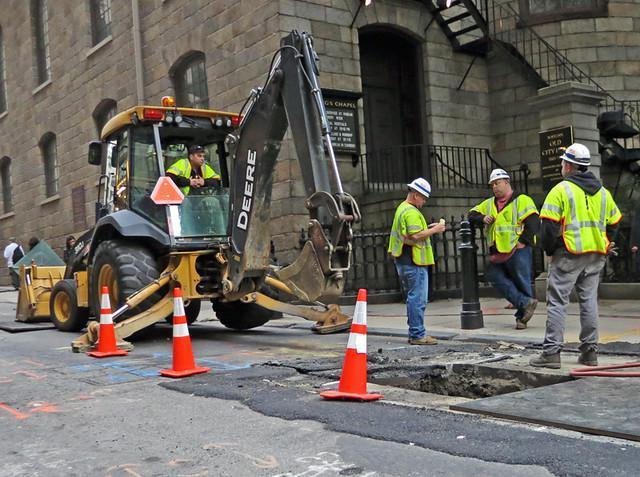Helmet: (560, 143, 592, 166), (407, 178, 431, 198), (488, 168, 511, 182)
Person: (530, 140, 621, 369), (468, 168, 540, 331), (388, 178, 446, 347), (4, 237, 24, 288), (64, 234, 77, 262), (28, 236, 40, 250)
Safety Boot: (574, 344, 609, 372), (535, 346, 569, 370), (510, 301, 536, 331), (405, 326, 435, 345)
Safety Vest: (557, 169, 613, 268), (482, 199, 524, 266), (166, 150, 220, 199), (391, 205, 432, 263)
bare-arms: (171, 153, 214, 185)
